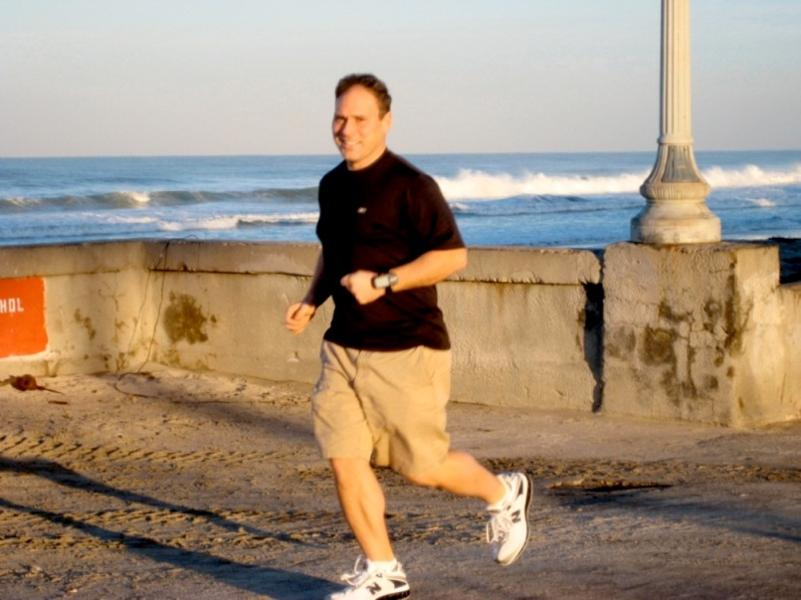person: (282, 72, 534, 600)
